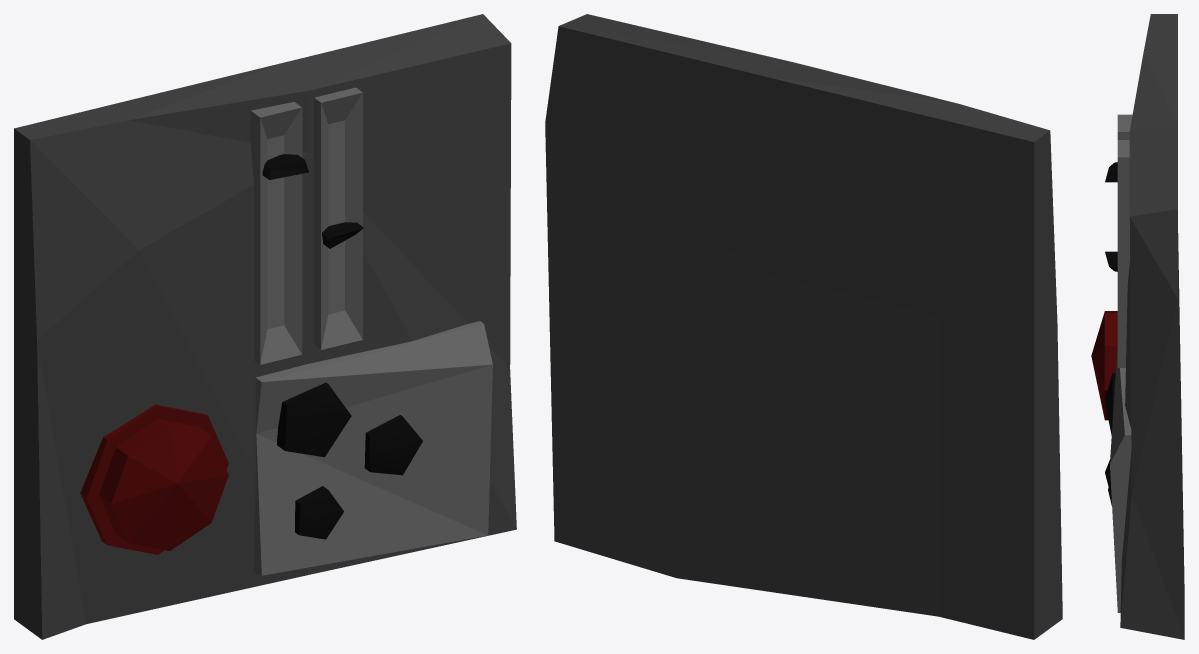
File: DoorPanel.dae
The picture shows the model from 3 angles, left to right: view 1: azimuth 30°, elevation 25°; view 2: azimuth 150°, elevation 25°; view 3: azimuth 270°, elevation 25°; orthographic projection. The views are drawn at different scales.
Visible parts, largest first — view 1: metalpannel, metalpannel1, pCylinder2, metalpannel2, metalpannel7, pCylinder5, pCylinder3, pCylinder4, metalpannel4, metalpannel8; view 2: metalpannel; view 3: metalpannel, metalpannel1, metalpannel7, pCylinder2, pCylinder5, metalpannel2, metalpannel4, metalpannel8.
Boxes of the visible parts, box(x1,y1,x2,y2) form: metalpannel: box(14, 14, 516, 639); metalpannel1: box(253, 321, 492, 575); pCylinder2: box(80, 404, 228, 554); metalpannel2: box(250, 102, 302, 364); metalpannel7: box(314, 87, 362, 349); pCylinder5: box(277, 382, 351, 457); pCylinder3: box(364, 415, 422, 475); pCylinder4: box(295, 486, 343, 539); metalpannel4: box(262, 154, 308, 179); metalpannel8: box(322, 222, 363, 248); metalpannel: box(545, 14, 1062, 639); metalpannel: box(1120, 14, 1184, 639); metalpannel1: box(1110, 346, 1131, 612); metalpannel7: box(1117, 140, 1129, 367); pCylinder2: box(1091, 311, 1117, 420); pCylinder5: box(1104, 373, 1115, 434); metalpannel2: box(1117, 114, 1132, 139); metalpannel4: box(1105, 162, 1117, 182); metalpannel8: box(1105, 251, 1117, 271).
Bounding box in the file's own units: 1.03 × 1.04 × 0.2023.
